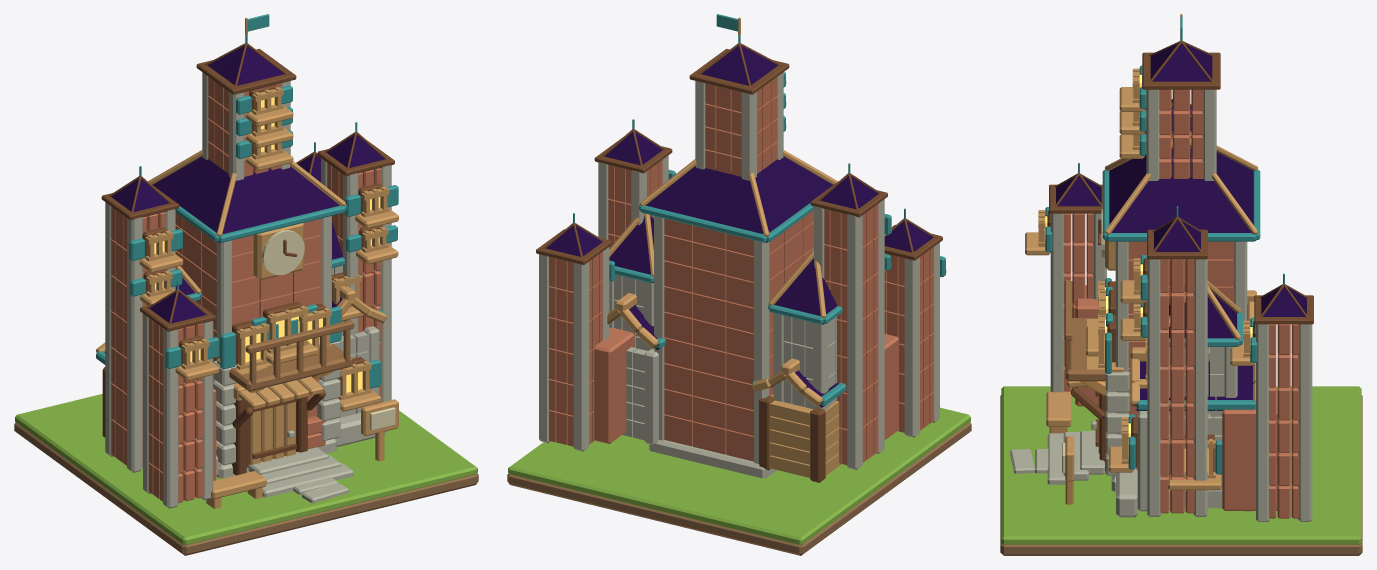
The model's file is town_hall_l15_active_LOD0.glb.
3 views of the same model, side by side, from view 1: azimuth 30°, elevation 25°; view 2: azimuth 150°, elevation 25°; view 3: azimuth 270°, elevation 25° (orthographic). The views are drawn at different scales.
Visible parts, largest first — view 1: town_hall_l15_active_grass_tile, town_hall_l15_active_earth_tile, town_hall_l15_active_corner_reinforcement.024, town_hall_l15_active_hip_roof_shingle.002, town_hall_l15_active_corner_reinforcement.036, town_hall_l15_active_hip_roof_shingle.011, town_hall_l15_active_premium_balcony_floor, town_hall_l15_active_corner_reinforcement.030, town_hall_l15_active_corner_reinforcement.025, town_hall_l15_active_central_spire_roof_shingle, town_hall_l15_active_corner_reinforcement.038, town_hall_l15_active_corner_reinforcement (+34 smaller); view 2: town_hall_l15_active_grass_tile, town_hall_l15_active_earth_tile, town_hall_l15_active_corner_reinforcement.025, town_hall_l15_active_vertical_corner_connector, town_hall_l15_active_corner_reinforcement.033, town_hall_l15_active_hip_roof_shingle.008, town_hall_l15_active_corner_reinforcement.037, town_hall_l15_active_corner_reinforcement.001, town_hall_l15_active_hip_roof_shingle.011, town_hall_l15_active_corner_reinforcement.003, town_hall_l15_active_corner_reinforcement.035, town_hall_l15_active_corner_reinforcement.024 (+59 smaller); view 3: town_hall_l15_active_grass_tile, town_hall_l15_active_earth_tile, town_hall_l15_active_vertical_corner_connector, town_hall_l15_active_corner_reinforcement.030, town_hall_l15_active_corner_reinforcement.031, town_hall_l15_active_hip_roof_shingle.005, town_hall_l15_active_corner_reinforcement.035, town_hall_l15_active_corner_reinforcement.034, town_hall_l15_active_corner_reinforcement.038, town_hall_l15_active_hip_roof_shingle.004, town_hall_l15_active_central_spire_roof_shingle, town_hall_l15_active_corner_reinforcement.002 (+52 smaller).
Boxes of the visible parts, x1=… form: town_hall_l15_active_grass_tile: x1=15, y1=394, x2=477, y2=545; town_hall_l15_active_earth_tile: x1=14, y1=422, x2=478, y2=555; town_hall_l15_active_corner_reinforcement.024: x1=127, y1=217, x2=142, y2=472; town_hall_l15_active_hip_roof_shingle.002: x1=219, y1=182, x2=339, y2=242; town_hall_l15_active_corner_reinforcement.036: x1=163, y1=328, x2=178, y2=508; town_hall_l15_active_hip_roof_shingle.011: x1=153, y1=169, x2=224, y2=242; town_hall_l15_active_premium_balcony_floor: x1=229, y1=343, x2=352, y2=391; town_hall_l15_active_corner_reinforcement.030: x1=379, y1=165, x2=391, y2=402; town_hall_l15_active_corner_reinforcement.025: x1=105, y1=202, x2=113, y2=456; town_hall_l15_active_central_spire_roof_shingle: x1=208, y1=46, x2=284, y2=85; town_hall_l15_active_corner_reinforcement.038: x1=200, y1=321, x2=213, y2=499; town_hall_l15_active_corner_reinforcement: x1=216, y1=240, x2=232, y2=360; town_hall_l15_active_grass_tile: x1=508, y1=407, x2=970, y2=545; town_hall_l15_active_earth_tile: x1=507, y1=422, x2=971, y2=555; town_hall_l15_active_corner_reinforcement.025: x1=847, y1=214, x2=862, y2=469; town_hall_l15_active_vertical_corner_connector: x1=593, y1=327, x2=635, y2=443; town_hall_l15_active_corner_reinforcement.033: x1=573, y1=261, x2=589, y2=451; town_hall_l15_active_hip_roof_shingle.008: x1=646, y1=182, x2=766, y2=242; town_hall_l15_active_corner_reinforcement.037: x1=904, y1=257, x2=919, y2=437; town_hall_l15_active_corner_reinforcement.001: x1=753, y1=240, x2=769, y2=463; town_hall_l15_active_hip_roof_shingle.011: x1=761, y1=169, x2=832, y2=242; town_hall_l15_active_corner_reinforcement.003: x1=654, y1=216, x2=665, y2=440; town_hall_l15_active_corner_reinforcement.035: x1=539, y1=254, x2=550, y2=442; town_hall_l15_active_corner_reinforcement.024: x1=876, y1=199, x2=884, y2=453; town_hall_l15_active_grass_tile: x1=1001, y1=386, x2=1361, y2=544; town_hall_l15_active_earth_tile: x1=1000, y1=395, x2=1362, y2=555; town_hall_l15_active_vertical_corner_connector: x1=1222, y1=389, x2=1277, y2=510; town_hall_l15_active_corner_reinforcement.030: x1=1147, y1=259, x2=1161, y2=516; town_hall_l15_active_corner_reinforcement.031: x1=1193, y1=259, x2=1207, y2=516; town_hall_l15_active_hip_roof_shingle.005: x1=1106, y1=202, x2=1256, y2=240; town_hall_l15_active_corner_reinforcement.035: x1=1298, y1=324, x2=1312, y2=521; town_hall_l15_active_corner_reinforcement.034: x1=1256, y1=324, x2=1269, y2=521; town_hall_l15_active_corner_reinforcement.038: x1=1050, y1=213, x2=1064, y2=392; town_hall_l15_active_hip_roof_shingle.004: x1=1133, y1=168, x2=1229, y2=202; town_hall_l15_active_central_spire_roof_shingle: x1=1150, y1=44, x2=1212, y2=81; town_hall_l15_active_corner_reinforcement.002: x1=1115, y1=241, x2=1129, y2=476.
Bounding box in the file's own units: 3.6 × 5.12 × 3.6.
